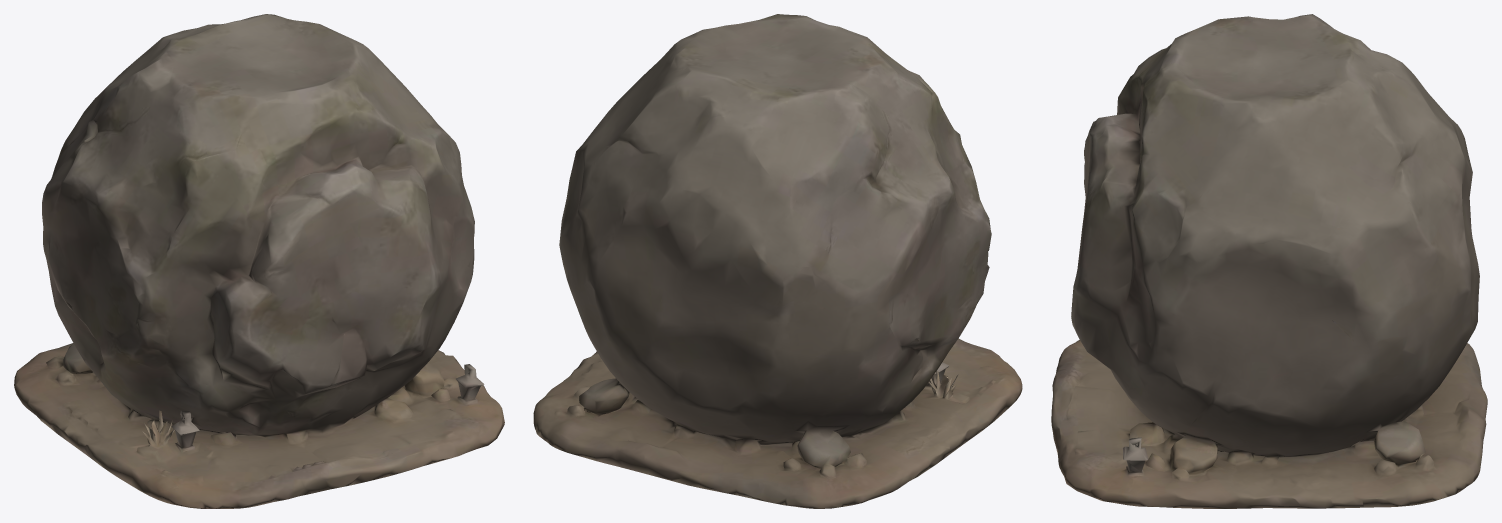
The model's file is rock_a.glb.
3 renders of one model, left to right at view 1: azimuth 30°, elevation 25°; view 2: azimuth 150°, elevation 25°; view 3: azimuth 270°, elevation 25°, orthographic. The views are drawn at different scales.
Parts seen in each view (by area): view 1: tripo_node_b3676e36-1ab3-4ba0-89e4-58ec3efea056; view 2: tripo_node_b3676e36-1ab3-4ba0-89e4-58ec3efea056; view 3: tripo_node_b3676e36-1ab3-4ba0-89e4-58ec3efea056.
Boxes of the visible parts, x1,y1,x2,y2 form: tripo_node_b3676e36-1ab3-4ba0-89e4-58ec3efea056: (14,14,504,508); tripo_node_b3676e36-1ab3-4ba0-89e4-58ec3efea056: (533,14,1022,508); tripo_node_b3676e36-1ab3-4ba0-89e4-58ec3efea056: (1051,14,1487,508).
Size of the model in its own units: 1 by 0.9164 by 0.9954.
1 material, 1 textured.
